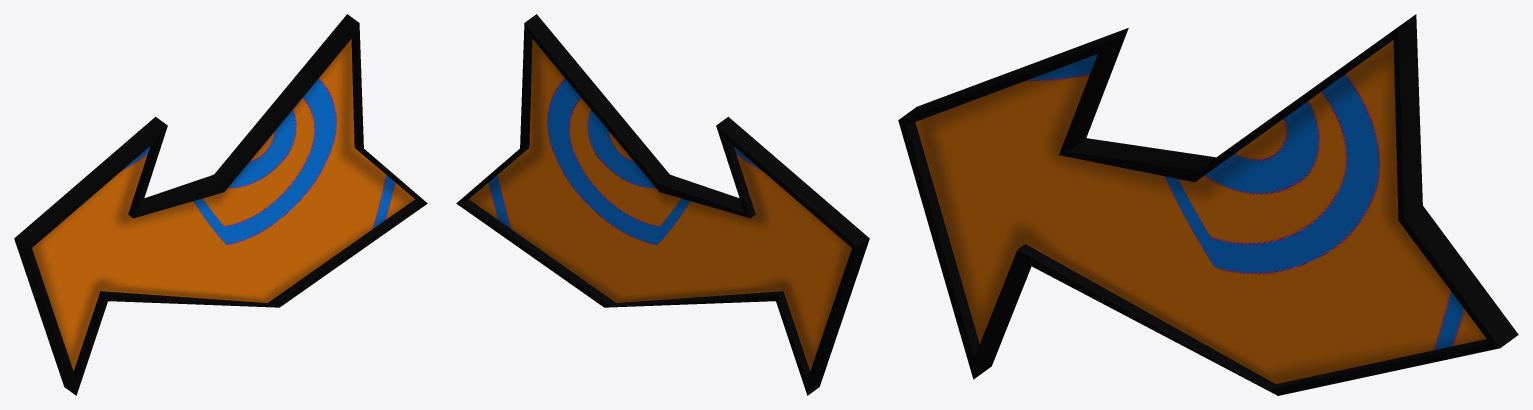
File: MOD_Arrow4.FBX
3 renders of one model, left to right at view 1: azimuth 30°, elevation 25°; view 2: azimuth 150°, elevation 25°; view 3: azimuth 330°, elevation 25°, orthographic. The views are drawn at different scales.
Parts seen in each view (by area): view 1: MOD_Arrow4; view 2: MOD_Arrow4; view 3: MOD_Arrow4.
Boxes of the visible parts, x1,y1,x2,y2 form: MOD_Arrow4: [14, 14, 427, 395]; MOD_Arrow4: [456, 14, 869, 395]; MOD_Arrow4: [898, 14, 1518, 395].
Size of the model in its own units: 82.68 by 59.81 by 4.37.
Materials: 1 (1 with a texture image).
